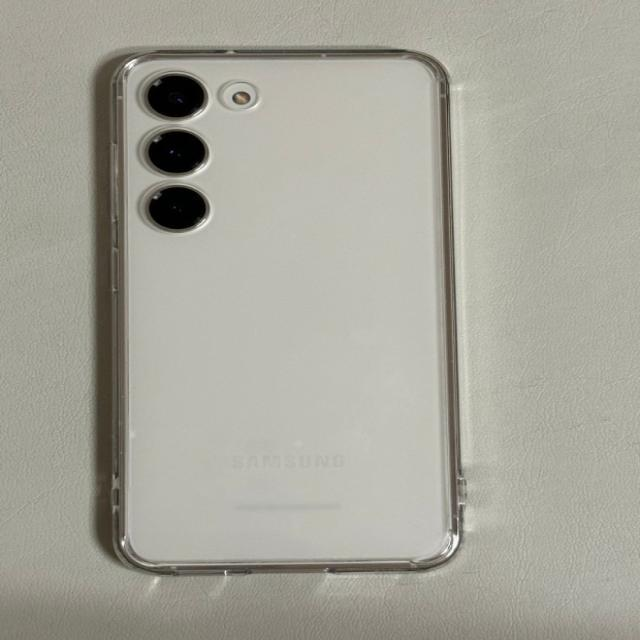phone: (110, 47, 467, 576)
